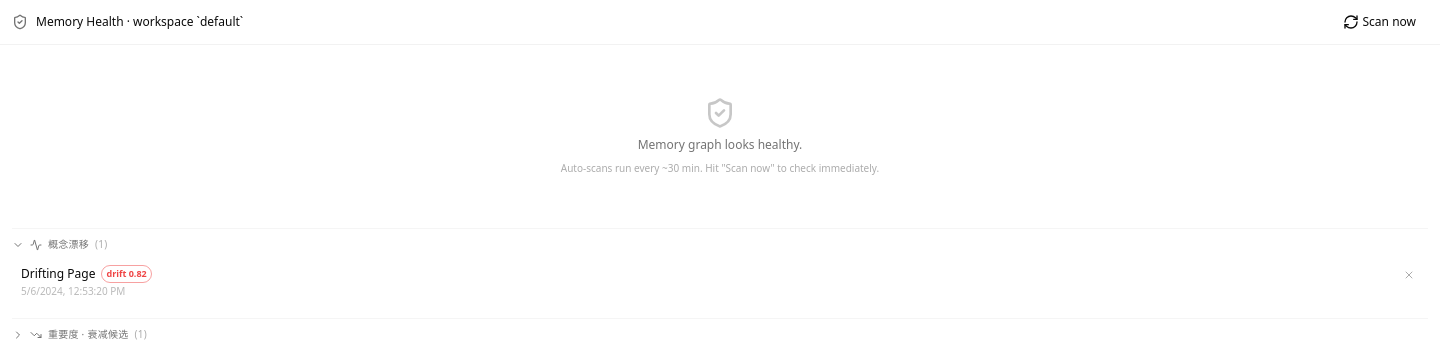
Test: MemoryHealthPanel — E sections › resolves a drift event and removes the row
Expected: the text "Drifting Page" is shown, [21, 266, 95, 282]
Click the button with test id "health-drift-resolve": (1409, 275) [1399, 265, 1419, 285]
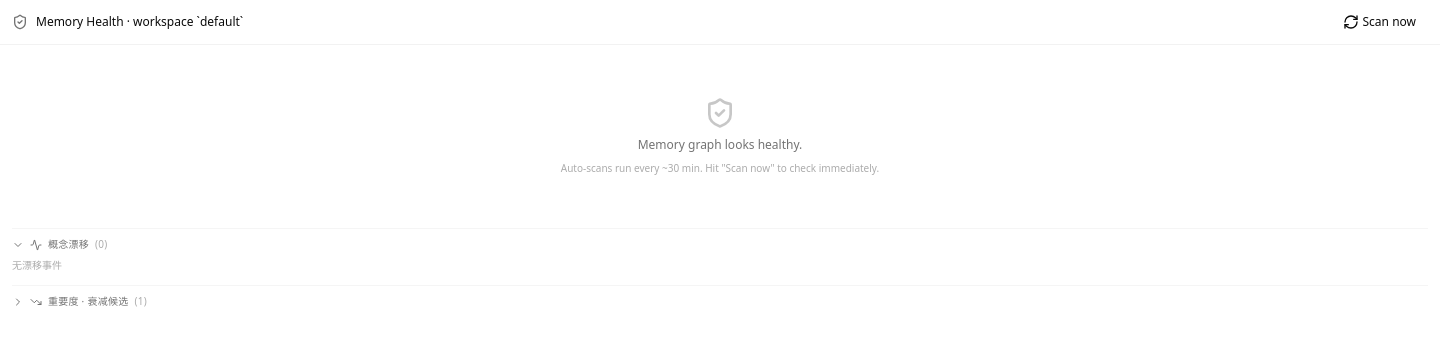
Expected: the text "Drifting Page" is gone
